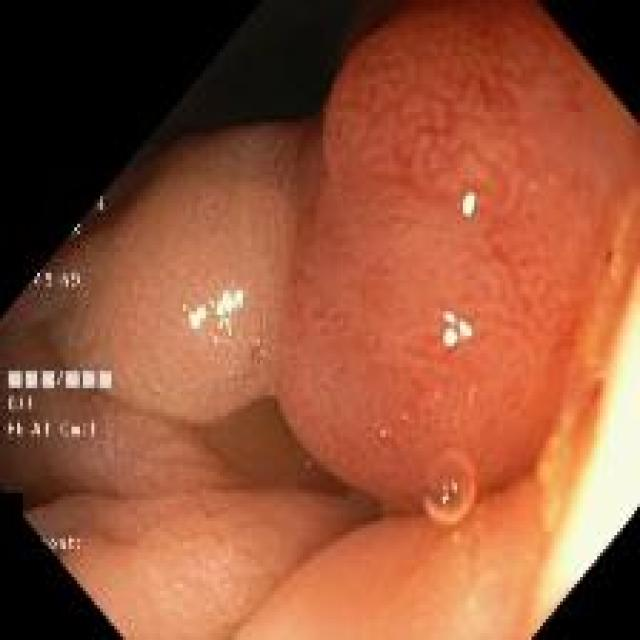Polyps: (279, 5, 639, 506), (55, 119, 318, 424)
